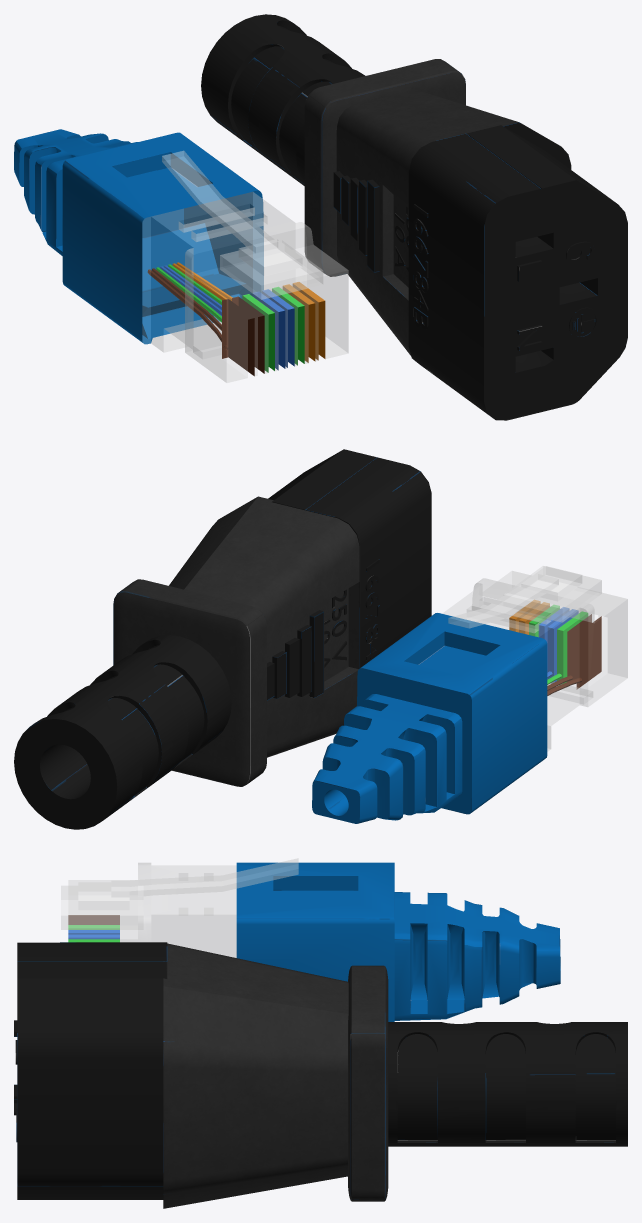
File: Plugs.fbx
The picture shows the model from 3 angles, top to bottom: view 1: azimuth 30°, elevation 25°; view 2: azimuth 150°, elevation 25°; view 3: azimuth 270°, elevation 25°; orthographic projection. The views are drawn at different scales.
Parts seen in each view (by area): view 1: Psu Plug, ETH Cable; view 2: Psu Plug, ETH Cable; view 3: Psu Plug, ETH Cable.
Part boxes in pixels (x1,y1,x2,y2): Psu Plug: (201, 14, 627, 420); ETH Cable: (14, 129, 348, 382); Psu Plug: (14, 449, 431, 829); ETH Cable: (312, 566, 627, 823); Psu Plug: (14, 942, 627, 1208); ETH Cable: (61, 858, 560, 1021).
Bounding box in the file's own units: 74.61 × 40.61 × 102.
